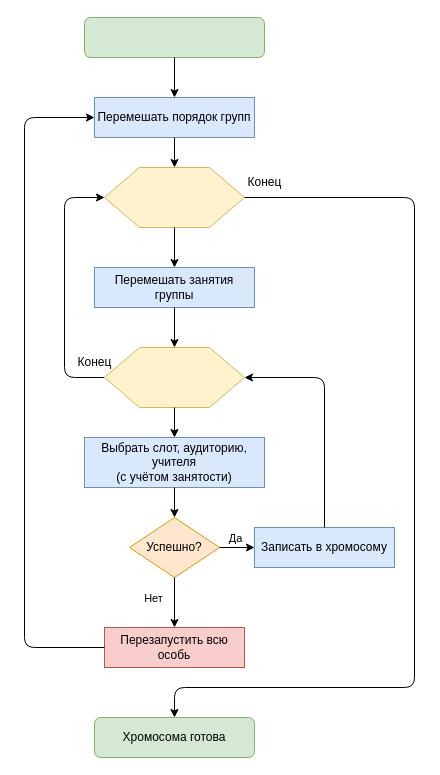
Image size: 440x775. Some labels were removed from this diagram. The centre of each missing label's shape, as x and y in pixels:
Для каждого занятия: (174,377)
Для каждой группы: (174,197)
Начало: пустая хромосома (n×4): (174,37)
